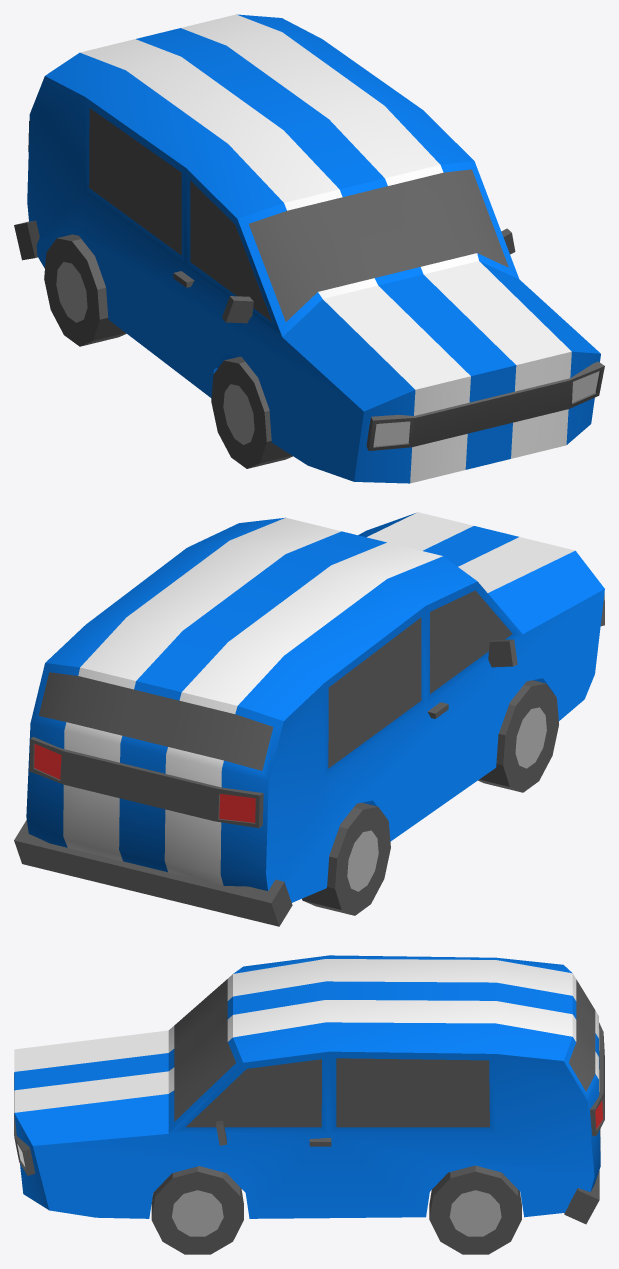
File: SM_Car_07_05.FBX
3 renders of one model, top to bottom at view 1: azimuth 30°, elevation 25°; view 2: azimuth 150°, elevation 25°; view 3: azimuth 270°, elevation 25°, orthographic. The views are drawn at different scales.
Visible parts, largest first — view 1: SM_Car_07_05, SM_Wheel_RBack001, SM_Wheel_LFront001; view 2: SM_Car_07_05, SM_Wheel_RBack001, SM_Wheel_LFront001; view 3: SM_Car_07_05, SM_Wheel_LBack001, SM_Wheel_LFront002.
Boxes of the visible parts, x1,y1,x2,y2 form: SM_Car_07_05: (14,14,604,483); SM_Wheel_RBack001: (44,234,126,346); SM_Wheel_LFront001: (211,356,292,468); SM_Car_07_05: (14,512,604,926); SM_Wheel_RBack001: (302,802,390,915); SM_Wheel_LFront001: (478,680,558,792); SM_Car_07_05: (14,955,604,1224); SM_Wheel_LBack001: (429,1165,521,1254); SM_Wheel_LFront002: (151,1166,243,1254).
Bounding box in the file's own units: 1.49 × 1.21 × 3.16.
1 material, 1 textured.
